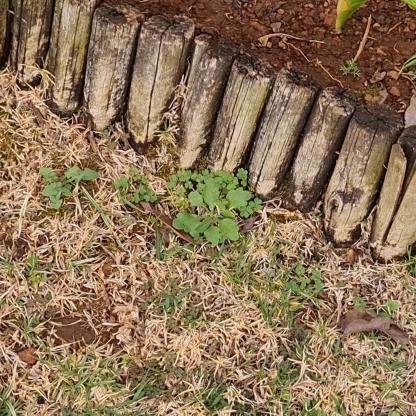Weeds: (172, 176, 251, 246), (38, 164, 100, 211)
